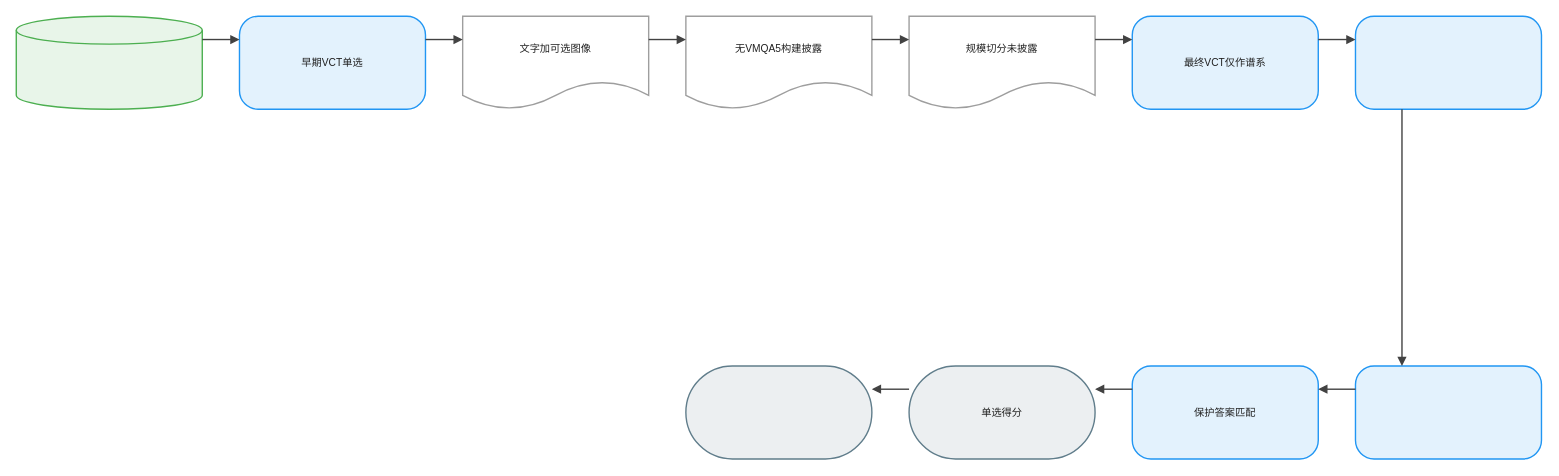
The diagram is 1559 pixels wide and 476 high, and some of its shapes have lost their labels. Here are the shapes that lost their labels. From the top down, the box of each, then its label:
(15, 15, 203, 110): 受保护SecureBio题集
(1354, 15, 1542, 110): 运行Deep Think
(685, 365, 872, 459): 基线比较
(1354, 365, 1542, 459): 解析一个选项
